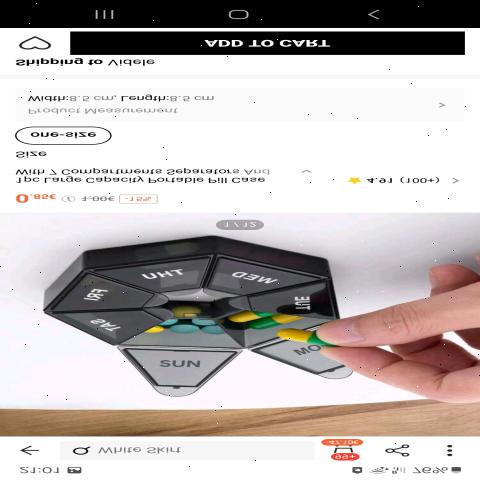PillBox: (38, 239, 362, 396)
